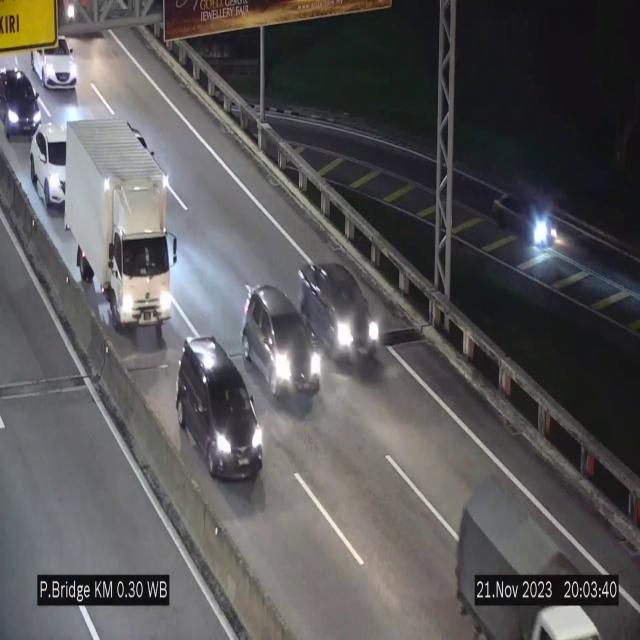Car: (177, 336, 263, 480), (242, 279, 320, 413), (297, 260, 381, 380), (30, 119, 67, 208), (32, 34, 78, 100), (0, 68, 43, 138)
Truck: (59, 118, 180, 335)
